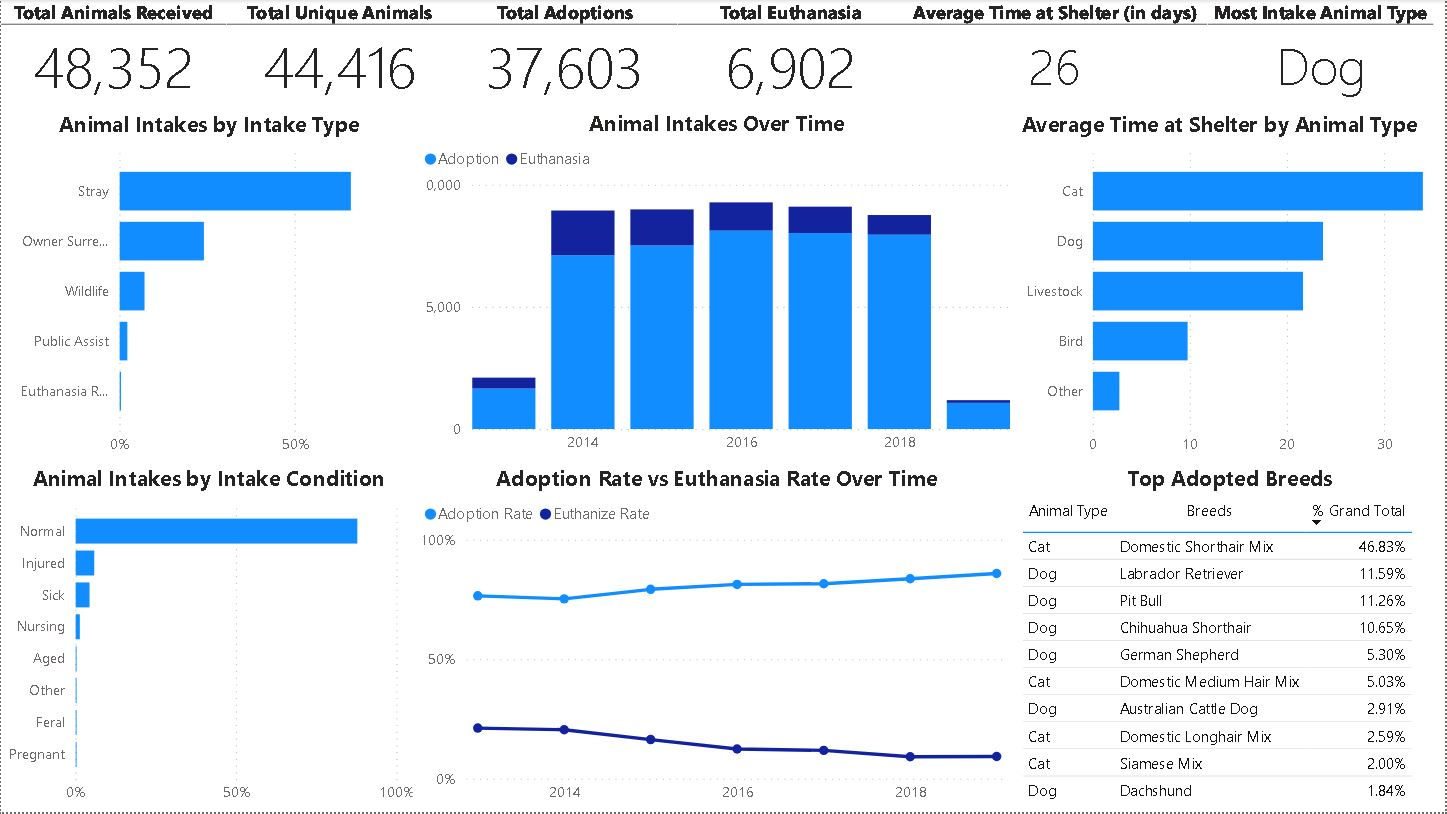

This screenshot's page, from the dashboard's own definition file:
{"tool":"powerbi","page":{"name":"Overview","canvas":[1280,720],"ordinal":0},"visuals":[{"type":"card","title":"Total Animals Received","fields":{"Values":["CountNonNull(Sheet1.Animal ID)"]},"box":[0,0,200,95.9],"z":0},{"type":"card","title":"Total Unique Animals","fields":{"Values":["Count(Sheet1.Animal ID)"]},"box":[200,0,200,95.9],"z":1000},{"type":"card","title":"Total Adoptions","fields":{"Values":["Measures Table.Total Adoptions"]},"box":[400,0,200,95.9],"z":2000},{"type":"card","title":"Total Euthanasia","fields":{"Values":["Measures Table.EuthanasiaCount"]},"box":[600,0,200,95.9],"z":3000},{"type":"card","title":"Average Time at Shelter (in days)","fields":{"Values":["Avg(Sheet1.TimeAtShelter)"]},"box":[800,0,270,95.9],"z":4000},{"type":"columnChart","title":"Animal Intakes Over Time","fields":{"Category":["Sheet1.IntakeDT.Variation.Date Hierarchy.Year","Sheet1.IntakeDT.Variation.Date Hierarchy.Quarter","Sheet1.IntakeDT.Variation.Date Hierarchy.Month","Sheet1.IntakeDT.Variation.Date Hierarchy.Day"],"Y":["CountNonNull(AnimalShelter.Animal ID)"],"Series":["AnimalShelter.Outcome Type"]},"box":[370,95.9,530,314],"z":5000},{"type":"card","title":"Most Intake Animal Type","fields":{"Values":["Min(Sheet1.Animal Type)"]},"box":[1070,0,200.1,95.9],"z":6000},{"type":"tableEx","title":"Top Adopted Breeds","fields":{"Values":["AnimalShelter.Animal Type","Sheet1.Breed","Divide(CountNonNull(AnimalShelter.Animal ID), ScopedEval(CountNonNull(AnimalShelter.Animal ID), []))"]},"box":[899.7,410.5,380.3,309.3],"z":7000},{"type":"lineChart","title":"Adoption Rate vs Euthanasia Rate Over Time","fields":{"Category":["Sheet1.IntakeDT.Variation.Date Hierarchy.Year","Sheet1.IntakeDT.Variation.Date Hierarchy.Quarter","Sheet1.IntakeDT.Variation.Date Hierarchy.Month","Sheet1.IntakeDT.Variation.Date Hierarchy.Day"],"Y":["Measures Table.Adoption Rate","Measures Table.Euthanize Rate"]},"box":[369.6,410.5,530.1,309.3],"z":8000},{"type":"clusteredBarChart","title":"Average Time at Shelter by Animal Type","fields":{"Category":["Sheet1.Animal Type"],"Y":["Avg(AnimalShelter.TimeAtShelter)"]},"box":[899.7,96.3,380.3,314.2],"z":9000},{"type":"clusteredBarChart","title":"Animal Intakes by Intake Type","fields":{"Category":["AnimalShelter.Intake Type"],"Y":["CountNonNull(AnimalShelter.Animal ID)"]},"box":[0,96.3,369.6,314.2],"z":10000},{"type":"clusteredBarChart","title":"Animal Intakes by Intake Condition","fields":{"Category":["AnimalShelter.Intake Condition"],"Y":["CountNonNull(AnimalShelter.Animal ID)"]},"box":[0,410.5,369.6,309.3],"z":11000}]}

Visuals, with their boxes in screenshot pixels (x1, y1, x2, y2), scaled from the page's 1280x720 canvas onto the 1447x814 screenshot:
"Total Animals Received" card: crop(0, 0, 226, 108)
"Total Unique Animals" card: crop(226, 0, 452, 108)
"Total Adoptions" card: crop(452, 0, 678, 108)
"Total Euthanasia" card: crop(678, 0, 904, 108)
"Average Time at Shelter (in days)" card: crop(904, 0, 1210, 108)
"Animal Intakes Over Time" columnChart: crop(418, 108, 1017, 463)
"Most Intake Animal Type" card: crop(1210, 0, 1436, 108)
"Top Adopted Breeds" tableEx: crop(1017, 464, 1446, 813)
"Adoption Rate vs Euthanasia Rate Over Time" lineChart: crop(418, 464, 1017, 813)
"Average Time at Shelter by Animal Type" clusteredBarChart: crop(1017, 109, 1446, 464)
"Animal Intakes by Intake Type" clusteredBarChart: crop(0, 109, 418, 464)
"Animal Intakes by Intake Condition" clusteredBarChart: crop(0, 464, 418, 813)
